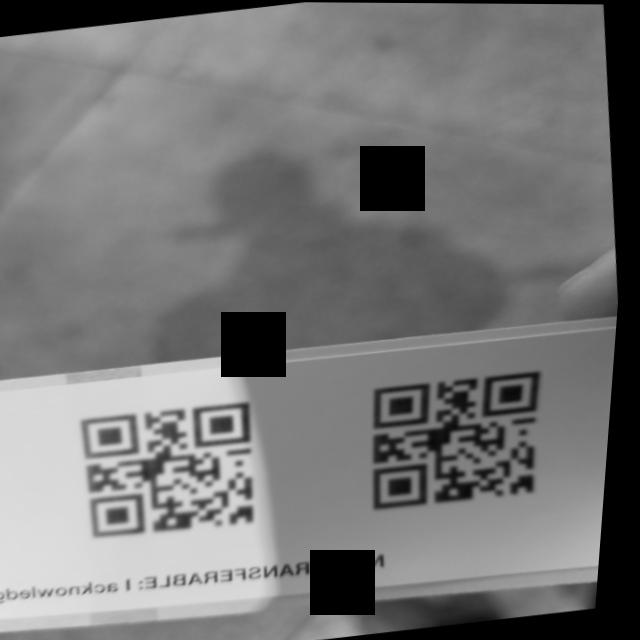QR_CODE: (59, 382, 303, 560), (334, 341, 566, 526)
